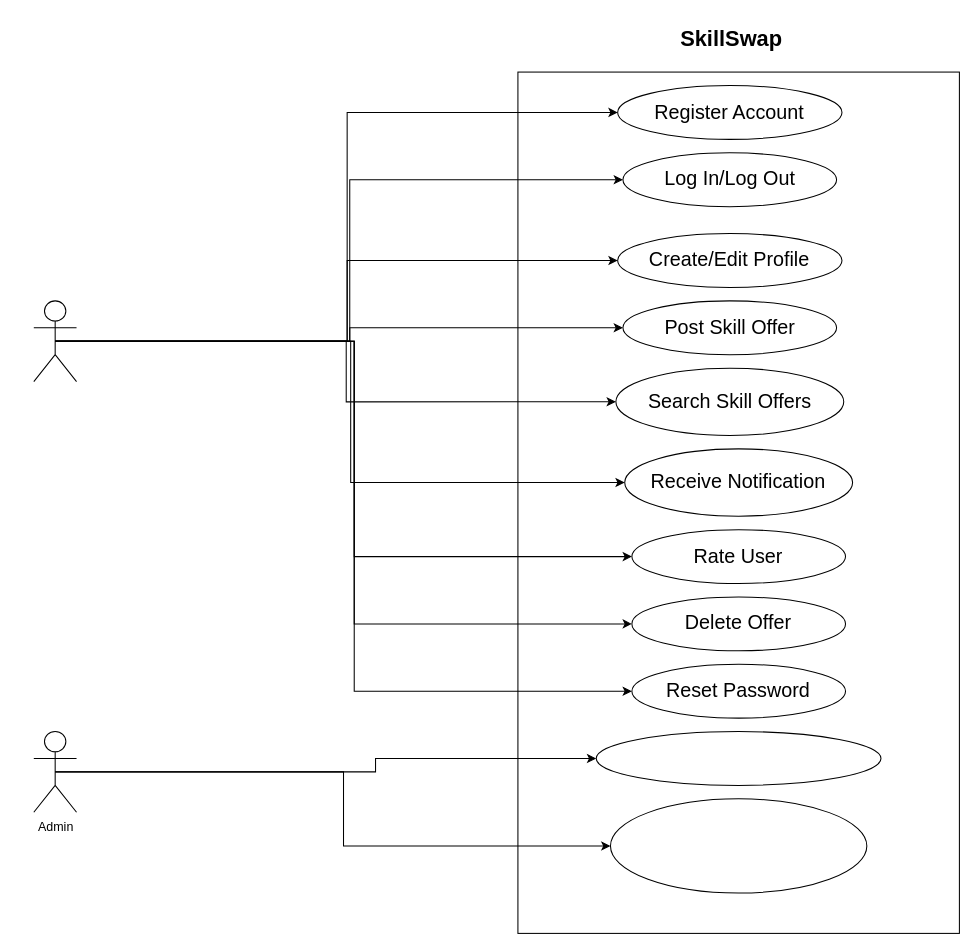
The diagram is 979 pixels wide and 952 high, and some of its shapes have lost their labels. Here are the shapes that lost their labels. From the top down, the box of each, then its label:
(33, 300, 77, 382): Student (learner/tutor)
(595, 730, 881, 785): Delete Offer/Account
(609, 798, 867, 893): Handle Reported Content
